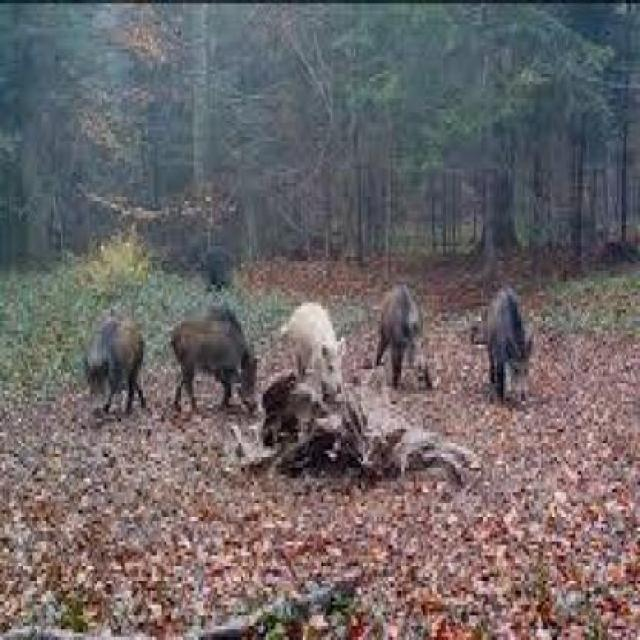wildboar: (165, 304, 264, 428), (81, 307, 150, 428), (280, 296, 348, 410), (368, 282, 434, 398), (480, 282, 538, 408)
